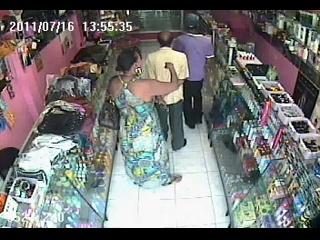Normal: (106, 47, 184, 189), (144, 30, 189, 152), (171, 22, 215, 128)
